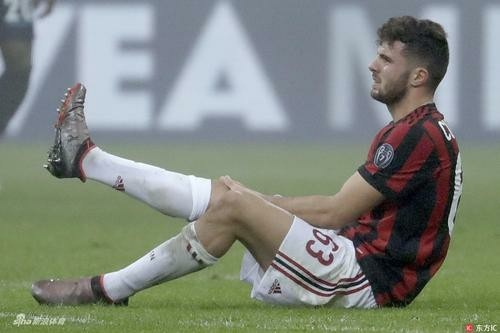falling: (19, 19, 477, 309)
